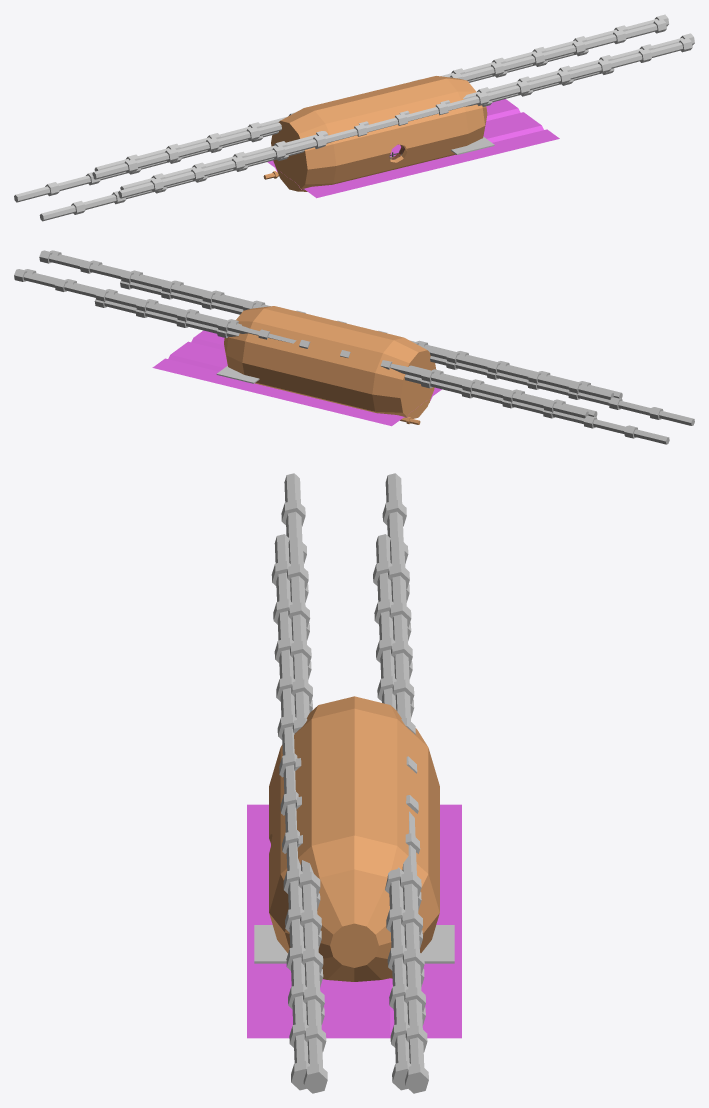
The model's file is submarino_inside.fbx.
The picture shows the model from 3 angles, top to bottom: view 1: azimuth 30°, elevation 25°; view 2: azimuth 150°, elevation 25°; view 3: azimuth 270°, elevation 25°; orthographic projection. The views are drawn at different scales.
Parts seen in each view (by area): view 1: Circle, Cylinder.005, Cylinder.004, Plane, Plane.001; view 2: Circle, Cylinder.004, Cylinder.005, Plane, Plane.001; view 3: Circle, Cylinder.005, Plane, Cylinder.004, Plane.001.
Boxes of the visible parts, x1,y1,x2,y2 form: Circle: (271,76,487,191); Cylinder.005: (39,33,694,221); Cylinder.004: (14,14,668,202); Plane: (267,99,559,198); Plane.001: (451,137,494,154); Circle: (224,306,436,418); Cylinder.004: (14,269,669,444); Cylinder.005: (39,250,694,425); Plane: (152,330,441,426); Plane.001: (216,366,259,383); Circle: (269,696,439,981); Cylinder.005: (271,473,327,1093); Plane: (247,804,461,1038); Cylinder.004: (373,473,428,1093); Plane.001: (254,925,454,963).
Bounding box in the file's own units: 19685 × 2256 × 2842.
